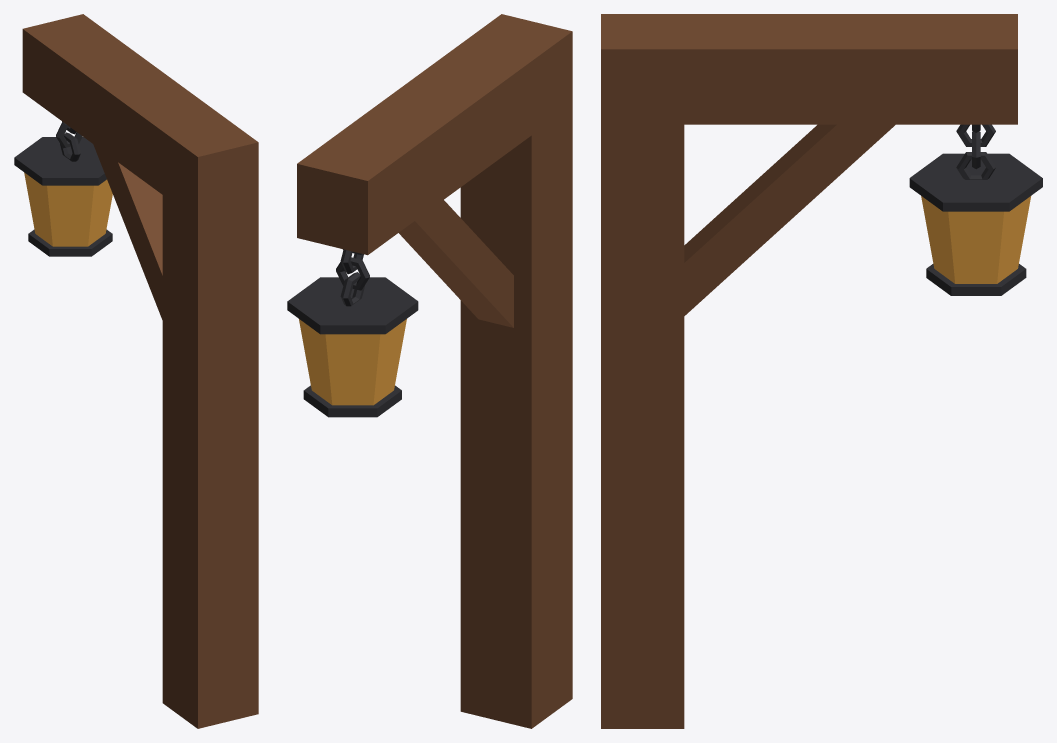
The model's file is obstacles_lamp.fbx.
3 renders of one model, left to right at view 1: azimuth 30°, elevation 25°; view 2: azimuth 150°, elevation 25°; view 3: azimuth 270°, elevation 25°, orthographic. The views are drawn at different scales.
Parts seen in each view (by area): view 1: Cube.001; view 2: Cube.001; view 3: Cube.001.
Part boxes in pixels (left/top/right/bottom): Cube.001: left=14, top=14, right=258, bottom=728; Cube.001: left=287, top=14, right=572, bottom=728; Cube.001: left=601, top=14, right=1042, bottom=728.
Size of the model in its own units: 69.28 by 450 by 265.
